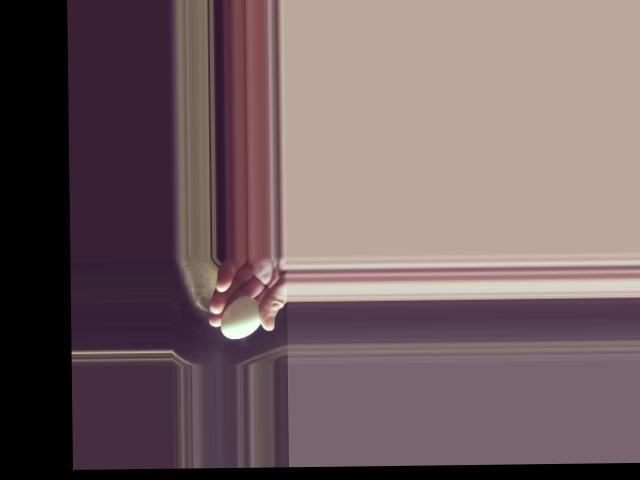egg: (221, 296, 262, 338)
